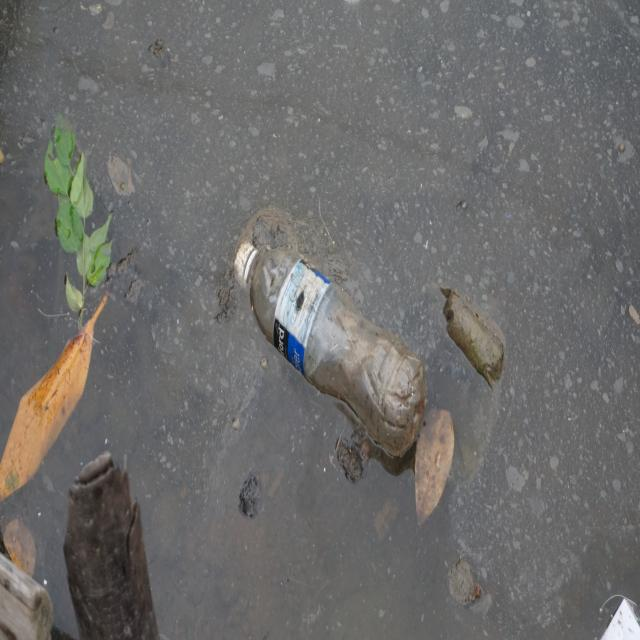Botol Plastik: (231, 229, 424, 471)
